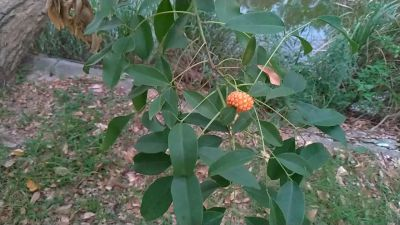eggs: (230, 88, 256, 112)
